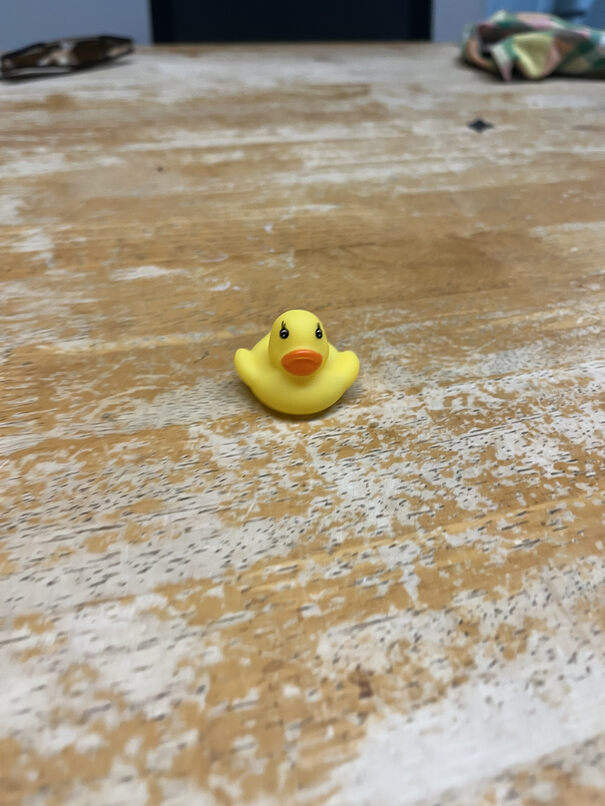duck_regular: (232, 304, 369, 416)
